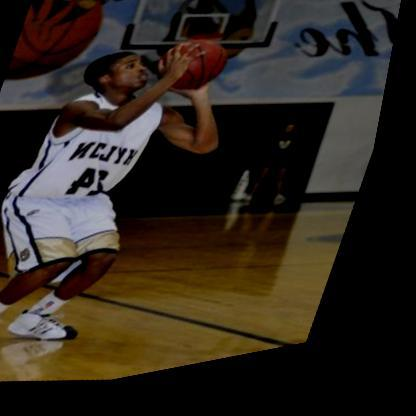basketball: (151, 36, 238, 110)
